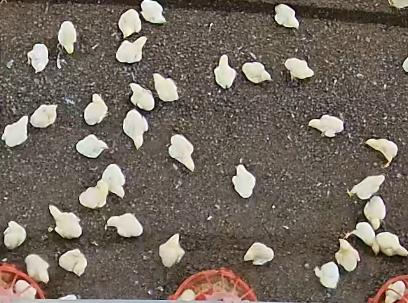chick: (344, 221, 380, 255), (47, 205, 82, 239), (364, 138, 400, 167), (122, 109, 148, 149), (169, 135, 196, 172), (126, 80, 157, 111), (346, 175, 385, 199), (375, 230, 408, 258), (2, 115, 29, 148), (115, 36, 148, 63), (78, 181, 109, 209), (214, 54, 238, 89), (152, 73, 180, 103), (83, 93, 109, 125), (308, 115, 344, 138), (102, 163, 125, 199), (336, 238, 360, 272), (59, 248, 87, 277), (364, 195, 387, 230), (108, 213, 143, 236), (75, 134, 110, 157), (25, 253, 50, 285), (232, 165, 255, 199), (240, 62, 272, 85), (273, 3, 300, 30), (29, 103, 59, 127), (118, 8, 141, 39), (314, 262, 340, 289), (284, 58, 314, 81), (58, 20, 77, 55), (244, 243, 274, 265), (28, 42, 49, 73), (4, 220, 25, 249), (14, 280, 36, 302), (384, 281, 405, 303), (178, 289, 194, 303), (388, 0, 408, 10)
rice: (169, 268, 259, 303), (0, 263, 46, 303), (366, 274, 408, 303)
